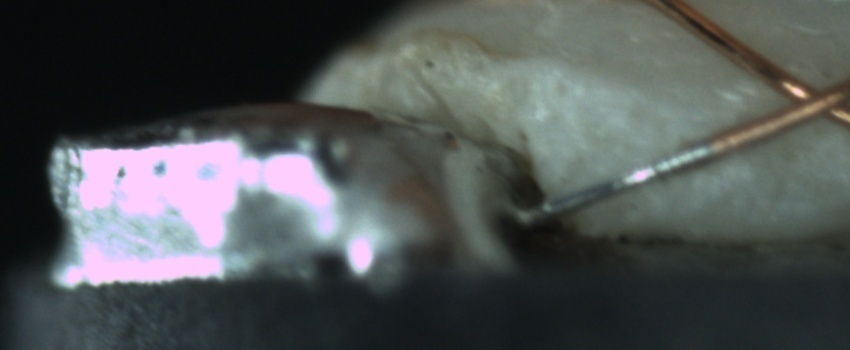CL: (764, 59, 850, 135)
TS: (521, 141, 719, 229)
